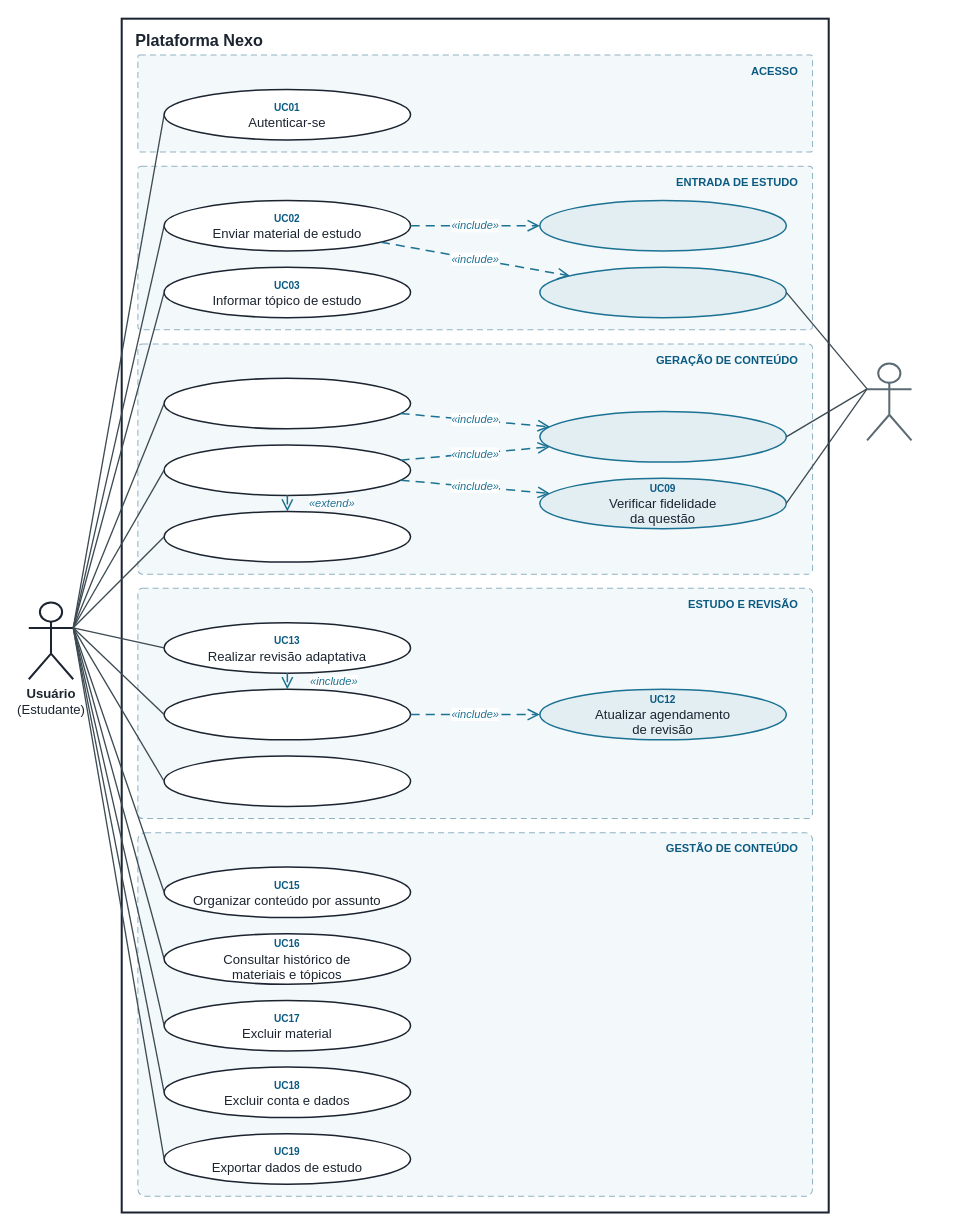
Image size: 971x1230. Some labels were removed from this diagram. The shapes that lost their labels are listed below. From the top down, each one's centre as x and y in pixels, then its label:
(x=663, y=225): UC04 Indexar material
(x=663, y=292): UC05 Sugerir divisão em tópicos
(x=287, y=403): UC06 Gerar resumo
(x=889, y=401): Provedor do modelo de linguagem (inteligência artificial)
(x=663, y=436): UC08 Obter conteúdo-base
(x=287, y=470): UC07 Gerar questões
(x=287, y=536): UC10 Gerar prova por escopo
(x=287, y=714): UC11 Responder questões
(x=287, y=781): UC14 Consultar painel de desempenho
